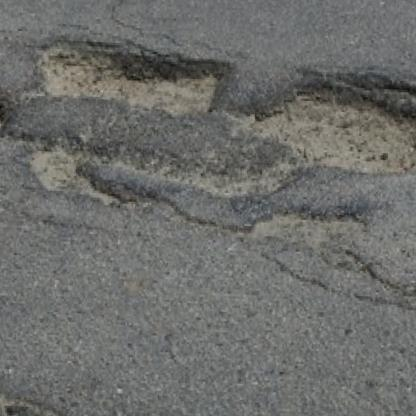pothole: (241, 71, 416, 184), (31, 34, 227, 124), (88, 136, 280, 205), (250, 206, 369, 247), (20, 132, 91, 197)
